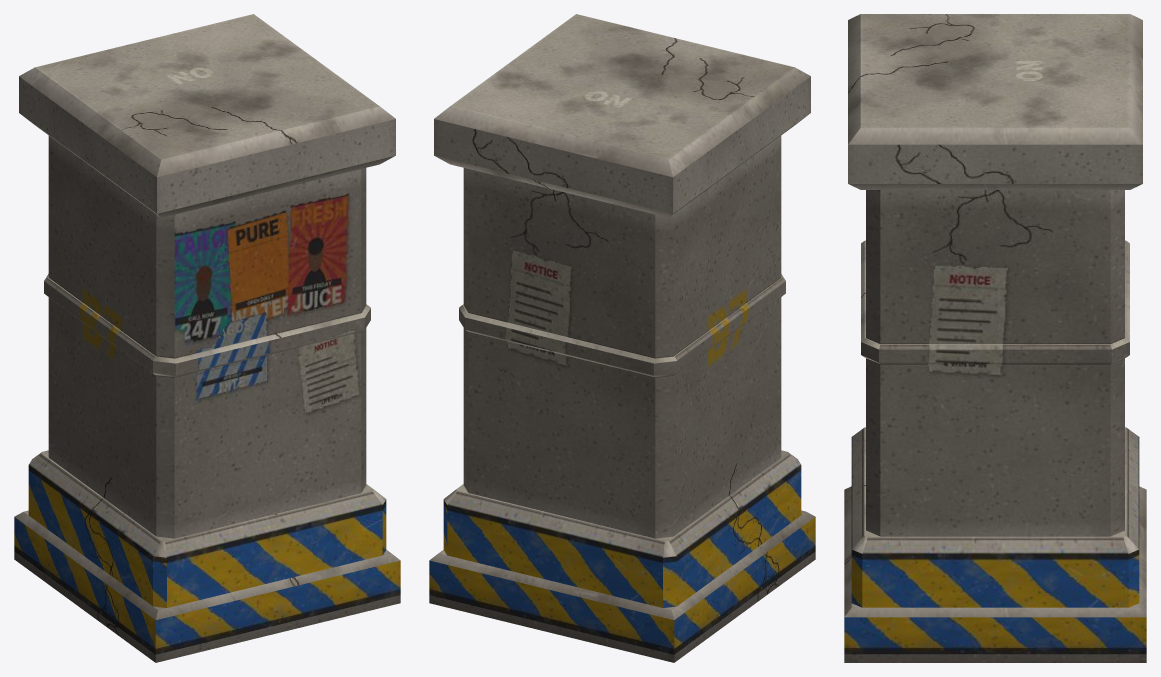
File: prop_pillar_c-T22virwV.glb
The picture shows the model from 3 angles, left to right: view 1: azimuth 30°, elevation 25°; view 2: azimuth 150°, elevation 25°; view 3: azimuth 270°, elevation 25°; orthographic projection. The views are drawn at different scales.
Visible parts, largest first — view 1: prop_pillar_c_body; view 2: prop_pillar_c_body; view 3: prop_pillar_c_body.
Part boxes in pixels (left/top/right/bottom): prop_pillar_c_body: left=14, top=14, right=400, bottom=662; prop_pillar_c_body: left=429, top=14, right=815, bottom=662; prop_pillar_c_body: left=844, top=14, right=1146, bottom=662.
Bounding box in the file's own units: 0.84 × 1.62 × 0.84.
1 material, 1 textured.
